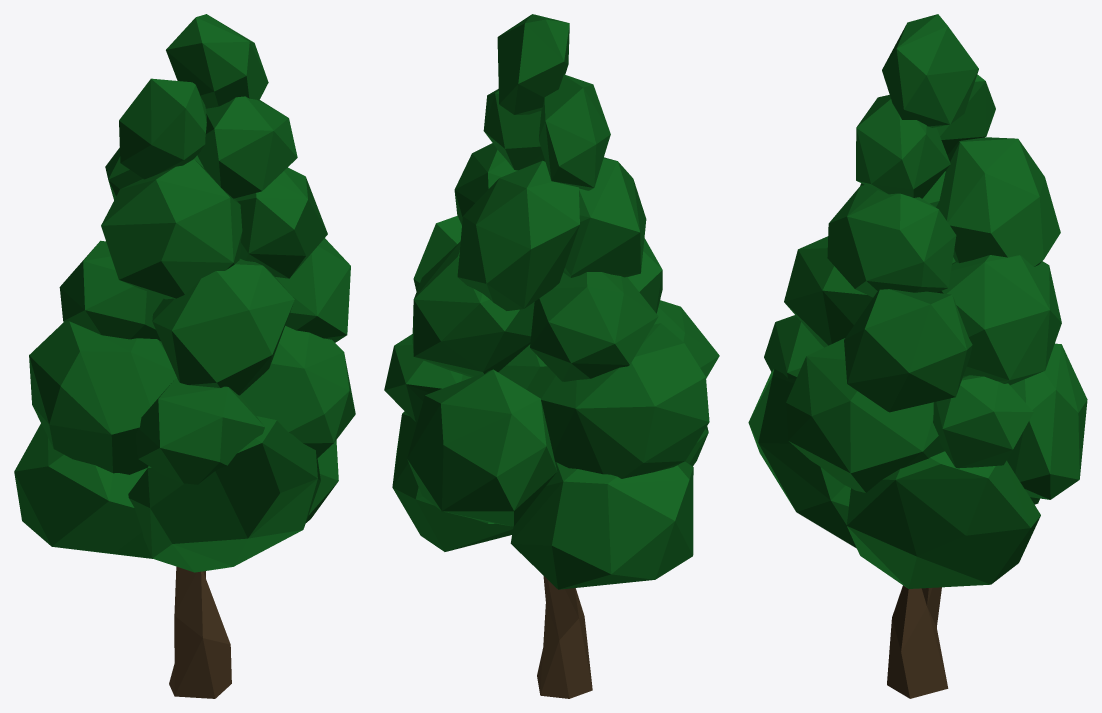
Rendered from AlderTree.fbx.
The picture shows the model from 3 angles, left to right: view 1: azimuth 30°, elevation 25°; view 2: azimuth 150°, elevation 25°; view 3: azimuth 270°, elevation 25°; orthographic projection.
Parts seen in each view (by area): view 1: AlderTree; view 2: AlderTree; view 3: AlderTree.
Part boxes in pixels (bbox=[...]): AlderTree: bbox=[14, 14, 355, 698]; AlderTree: bbox=[384, 14, 719, 698]; AlderTree: bbox=[748, 14, 1087, 698].
Size of the model in its own units: 113 by 247 by 113.
